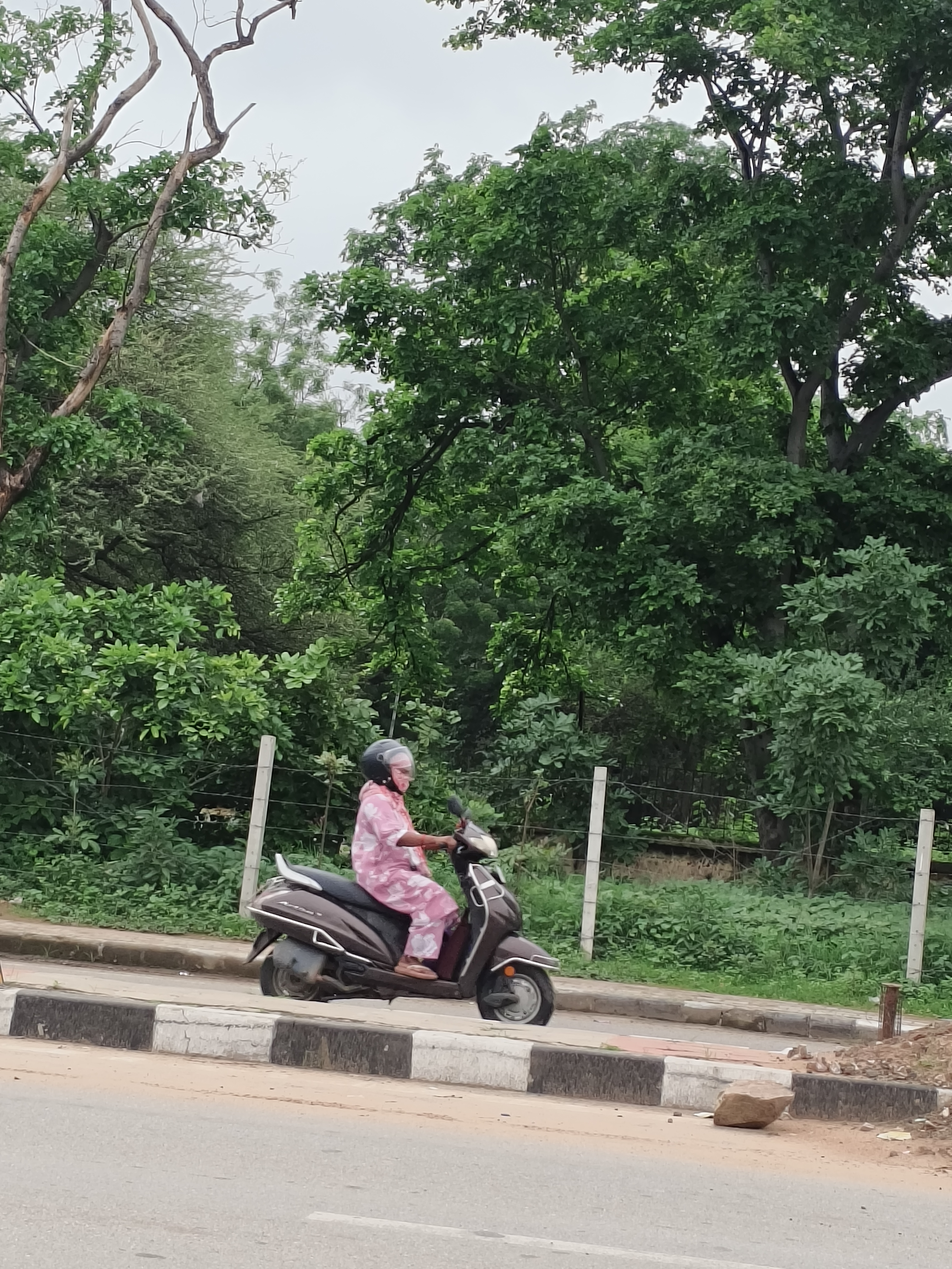BikeWithRider: (234, 721, 570, 1030)
Helmet: (353, 731, 421, 801)
